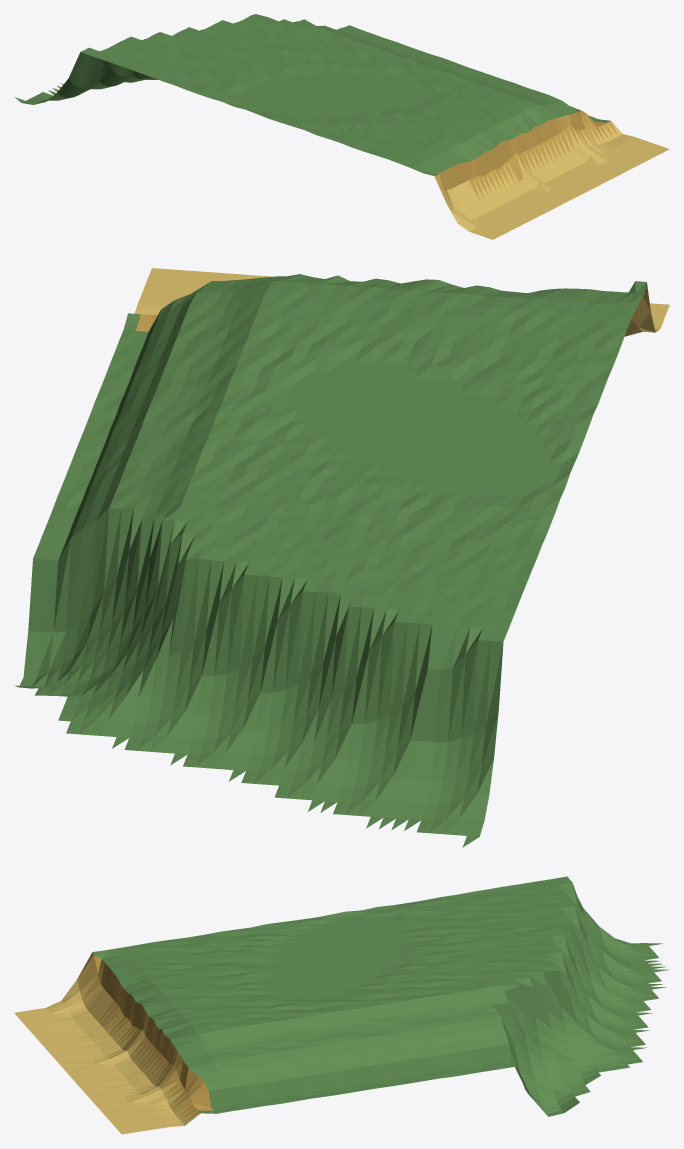
The model's file is IntroTerrain2.fbx.
3 views of the same model, one above another, from view 1: azimuth 30°, elevation 25°; view 2: azimuth 150°, elevation 25°; view 3: azimuth 270°, elevation 25° (orthographic). The views are drawn at different scales.
Parts seen in each view (by area): view 1: IntroTerrain2; view 2: IntroTerrain2; view 3: IntroTerrain2.
Boxes of the visible parts, bbox=[...] form: IntroTerrain2: bbox=[14, 14, 669, 239]; IntroTerrain2: bbox=[15, 268, 669, 847]; IntroTerrain2: bbox=[14, 876, 669, 1134].
Bounding box in the file's own units: 341 × 70.93 × 427.
